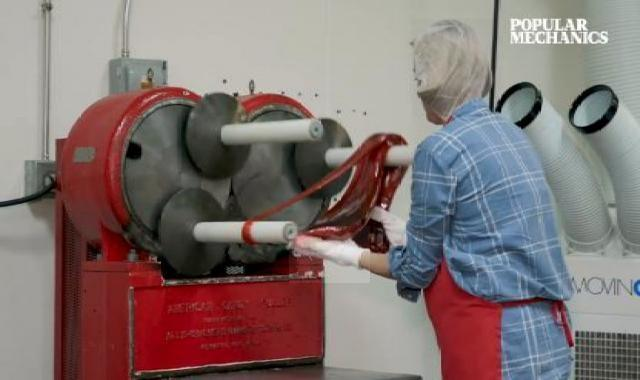apron: (289, 227, 370, 284)
gloves: (412, 19, 498, 116)
